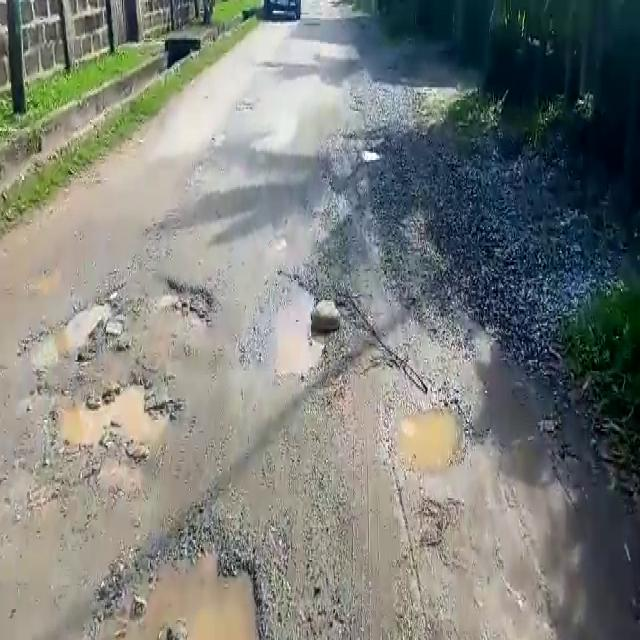Pothole: (102, 532, 278, 637), (50, 375, 180, 454), (24, 291, 125, 361), (266, 273, 324, 382), (386, 402, 466, 476), (156, 274, 214, 327)
